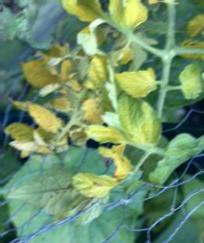Tomato leaf yellow virus: (1, 155, 137, 243), (145, 130, 199, 201), (115, 82, 162, 151), (108, 0, 148, 37)
